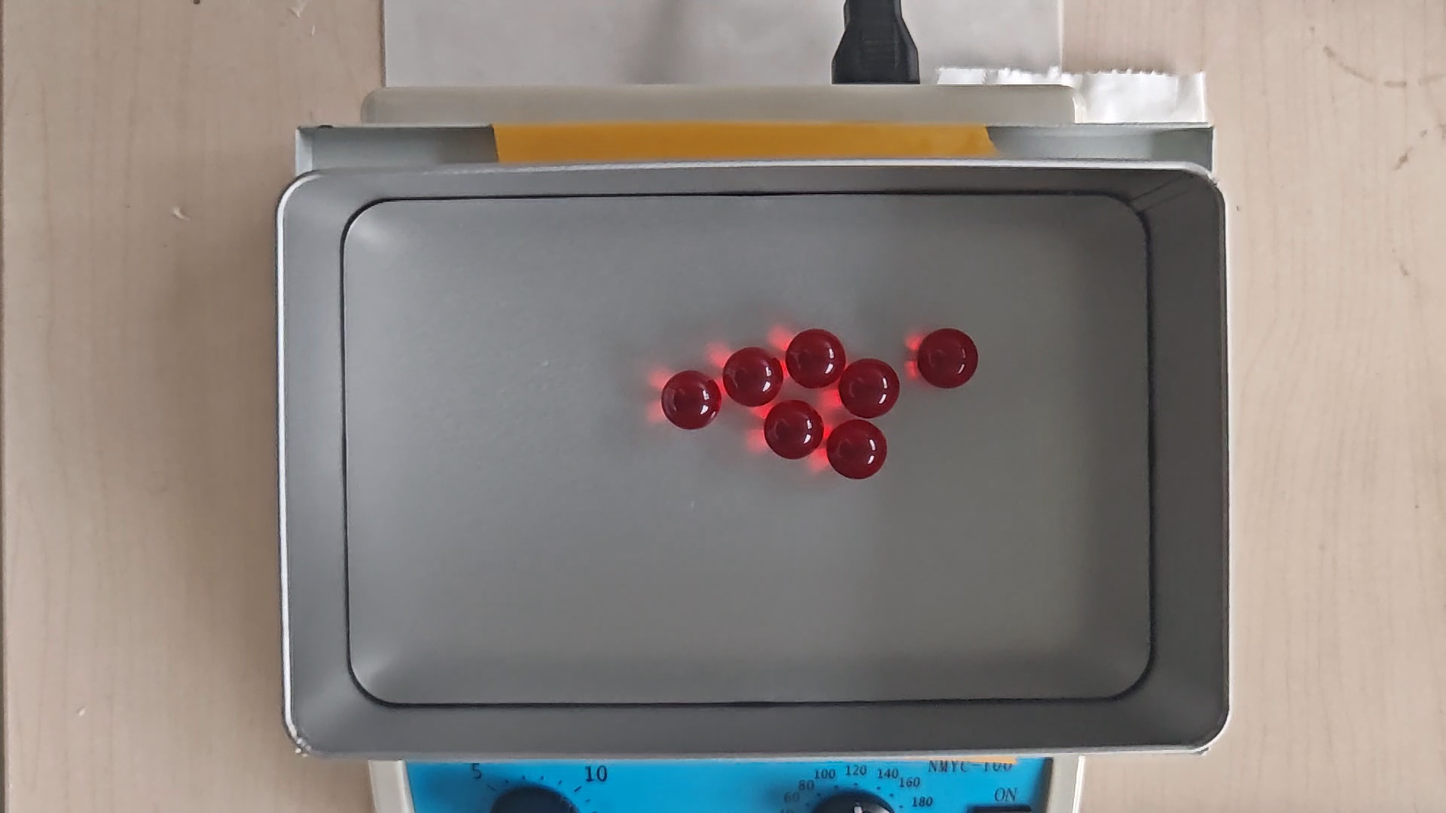ball: (836, 357, 901, 419), (916, 327, 978, 391), (723, 346, 786, 407), (764, 397, 825, 460), (825, 419, 886, 481), (786, 328, 846, 391), (660, 370, 721, 431)
container: (340, 196, 1155, 701)
